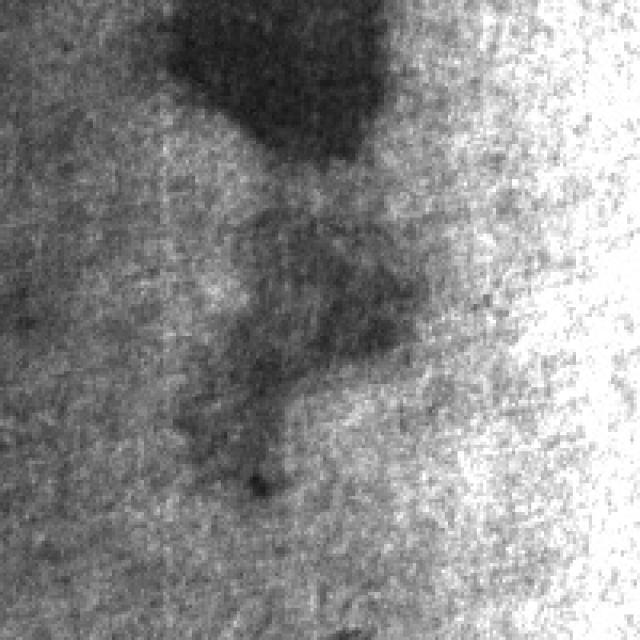patches: (192, 195, 387, 480), (160, 0, 394, 163)
